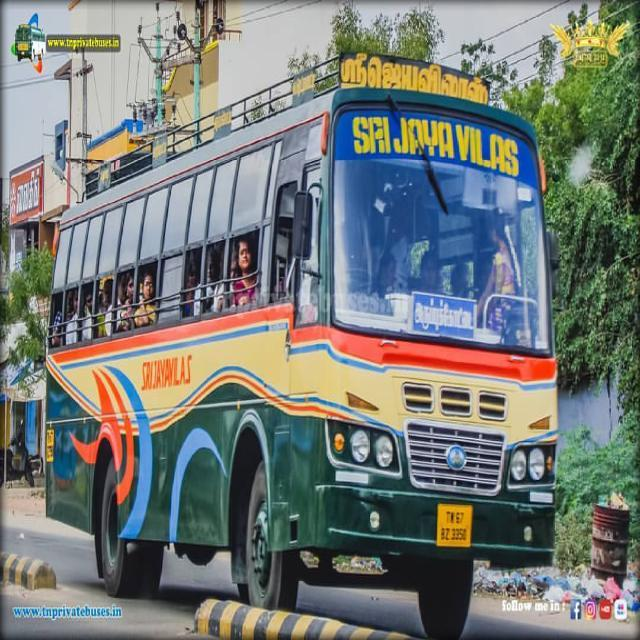Bus: (41, 52, 562, 620)
